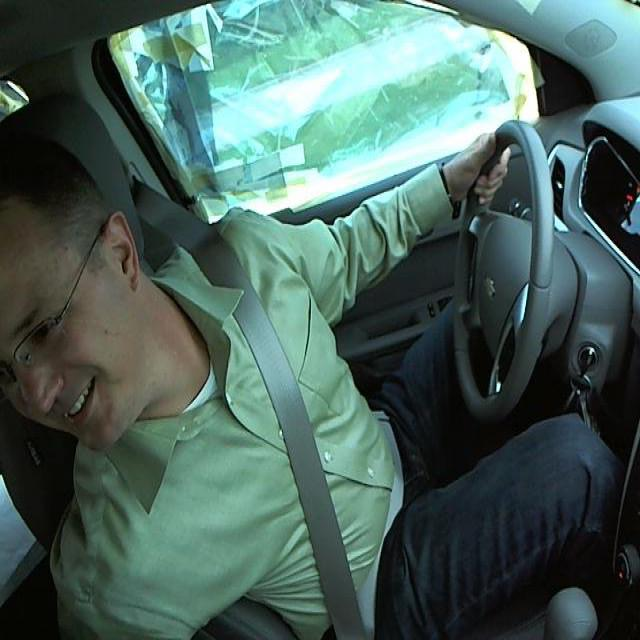seatbelt: (191, 265, 396, 636)
